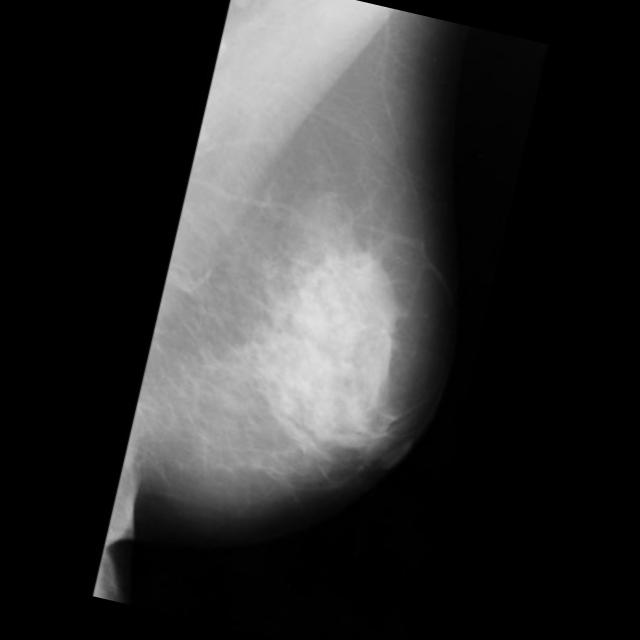CALC: (476, 117, 481, 122)
